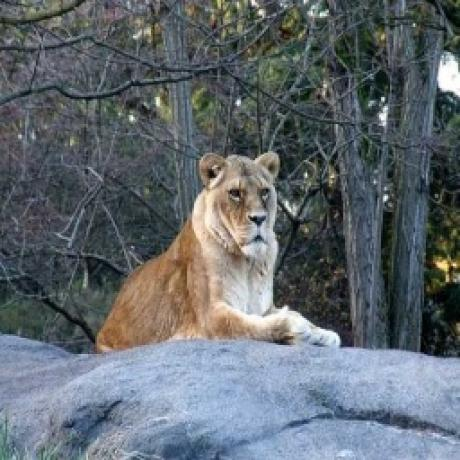Lion: (86, 146, 342, 354)
